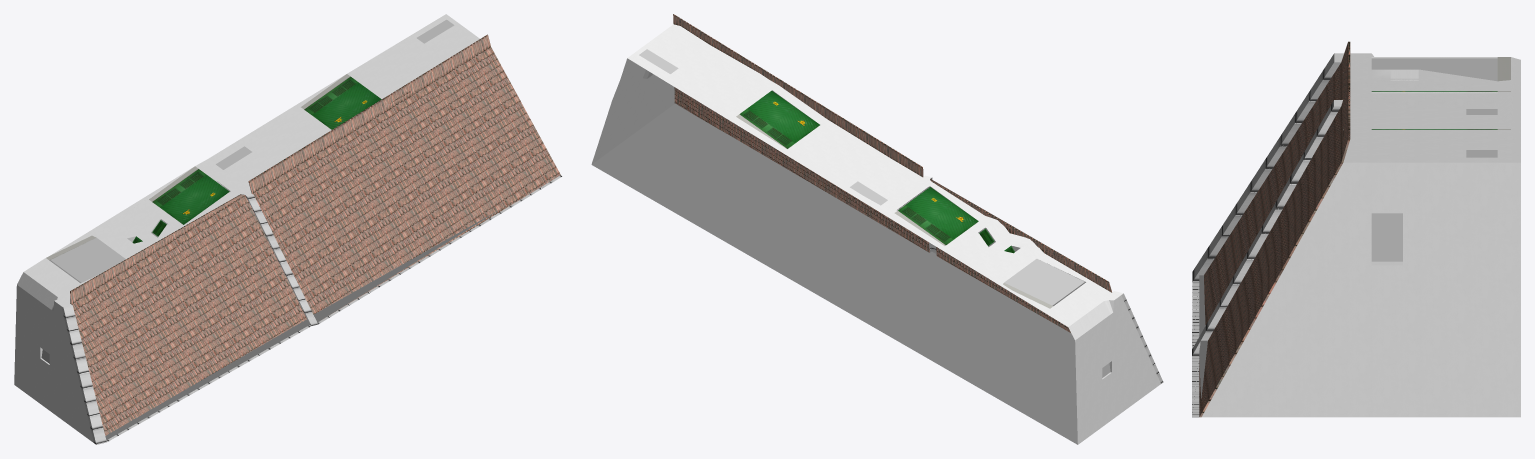
File: Pyhavaimu_2_2-origo.obj
The picture shows the model from 3 angles, left to right: view 1: azimuth 30°, elevation 25°; view 2: azimuth 150°, elevation 25°; view 3: azimuth 270°, elevation 25°; orthographic projection. The views are drawn at different scales.
Parts seen in each view (by area): view 1: Pyhavaimu_2_2; view 2: Pyhavaimu_2_2; view 3: Pyhavaimu_2_2.
Boxes of the visible parts, x1,y1,x2,y2 form: Pyhavaimu_2_2: (14,14,562,444); Pyhavaimu_2_2: (591,14,1163,444); Pyhavaimu_2_2: (1192,41,1520,417).
Bounding box in the file's own units: 22.06 × 12.5 × 6.73.
